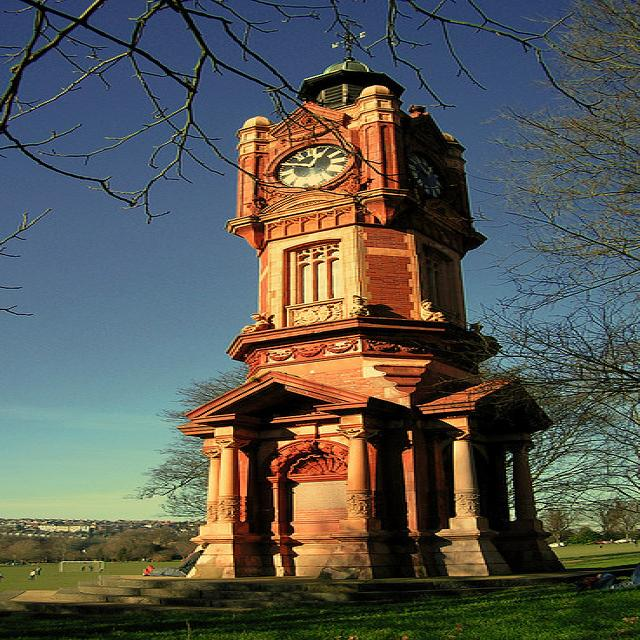Vehicle: (613, 539, 626, 544)
